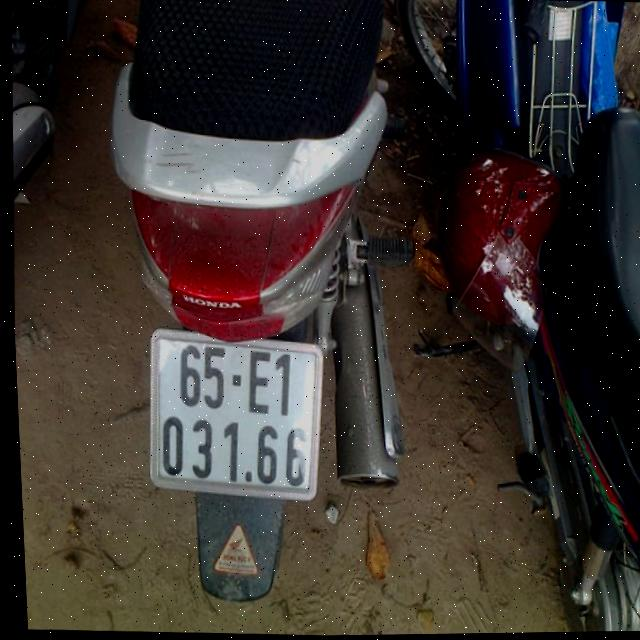motorcycle: (83, 0, 433, 612), (384, 0, 640, 634)
plate: (137, 323, 332, 506)
